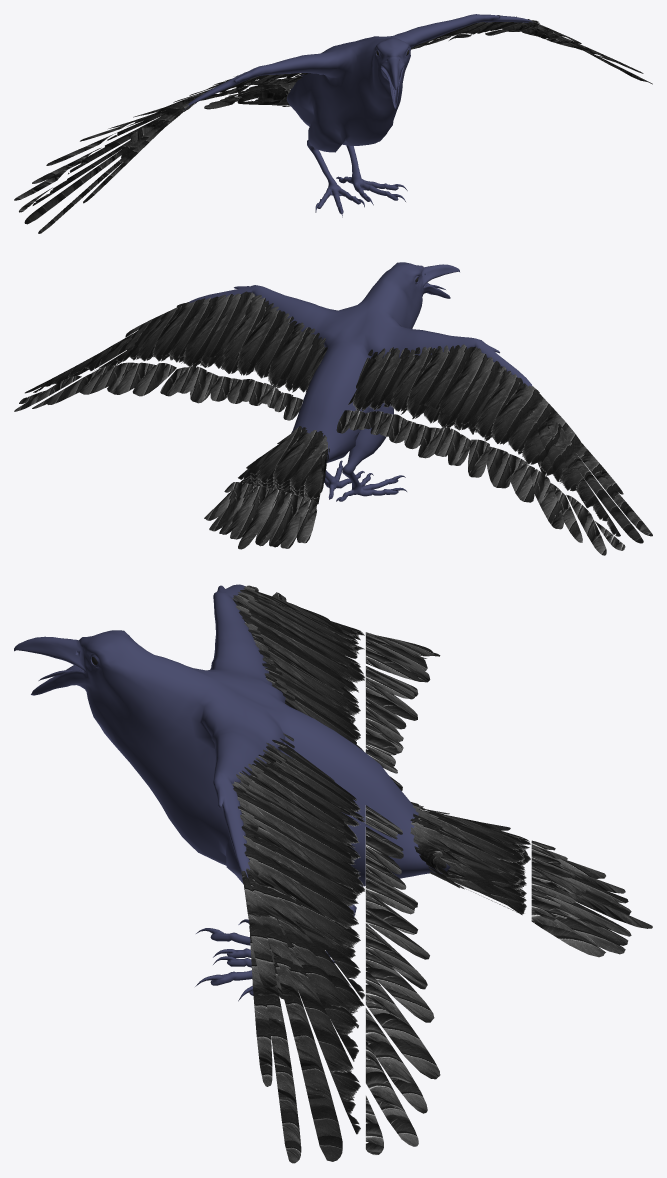
The model's file is raven.obj.
3 views of the same model, one above another, from view 1: azimuth 30°, elevation 25°; view 2: azimuth 150°, elevation 25°; view 3: azimuth 270°, elevation 25° (orthographic). The views are drawn at different scales.
Visible parts, largest first — view 1: Raven; view 2: Raven; view 3: Raven.
Part boxes in pixels (left/top/right/bottom): Raven: left=14, top=14, right=652, bottom=233; Raven: left=14, top=262, right=652, bottom=555; Raven: left=14, top=584, right=652, bottom=1163.
Bounding box in the file's own units: 7.3 × 2.16 × 3.85.
Materials: 3 (1 with a texture image).
